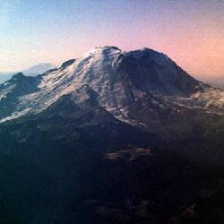neutral: (4, 4, 224, 215)
